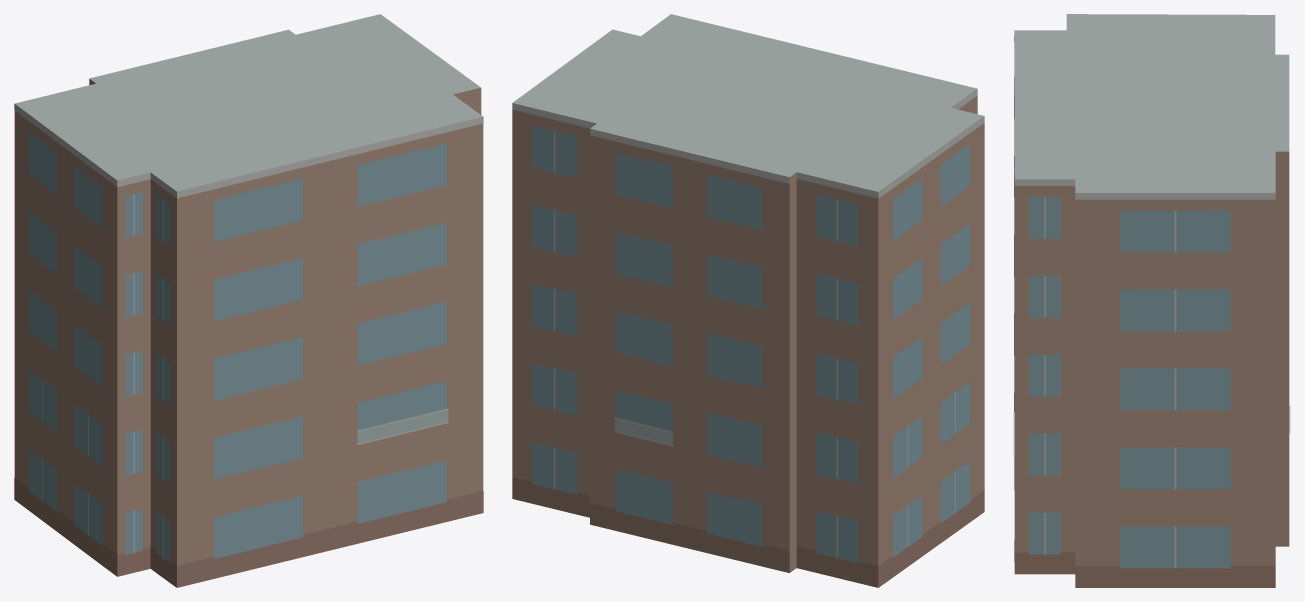
Rendered from survey-upis-32769103.glb.
3 views of the same model, side by side, from view 1: azimuth 30°, elevation 25°; view 2: azimuth 150°, elevation 25°; view 3: azimuth 270°, elevation 25° (orthographic).
Visible parts, largest first — view 1: survey-upis-32769103.tmp; view 2: survey-upis-32769103.tmp; view 3: survey-upis-32769103.tmp.
Boxes of the visible parts, left/top/right/bottom form: survey-upis-32769103.tmp: left=14, top=14, right=483, bottom=587; survey-upis-32769103.tmp: left=512, top=14, right=984, bottom=587; survey-upis-32769103.tmp: left=1013, top=14, right=1290, bottom=587.
Bounding box in the file's own units: 14.01 × 14.4 × 9.17.
